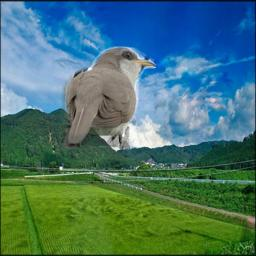Cuckoo: (61, 46, 156, 150)
